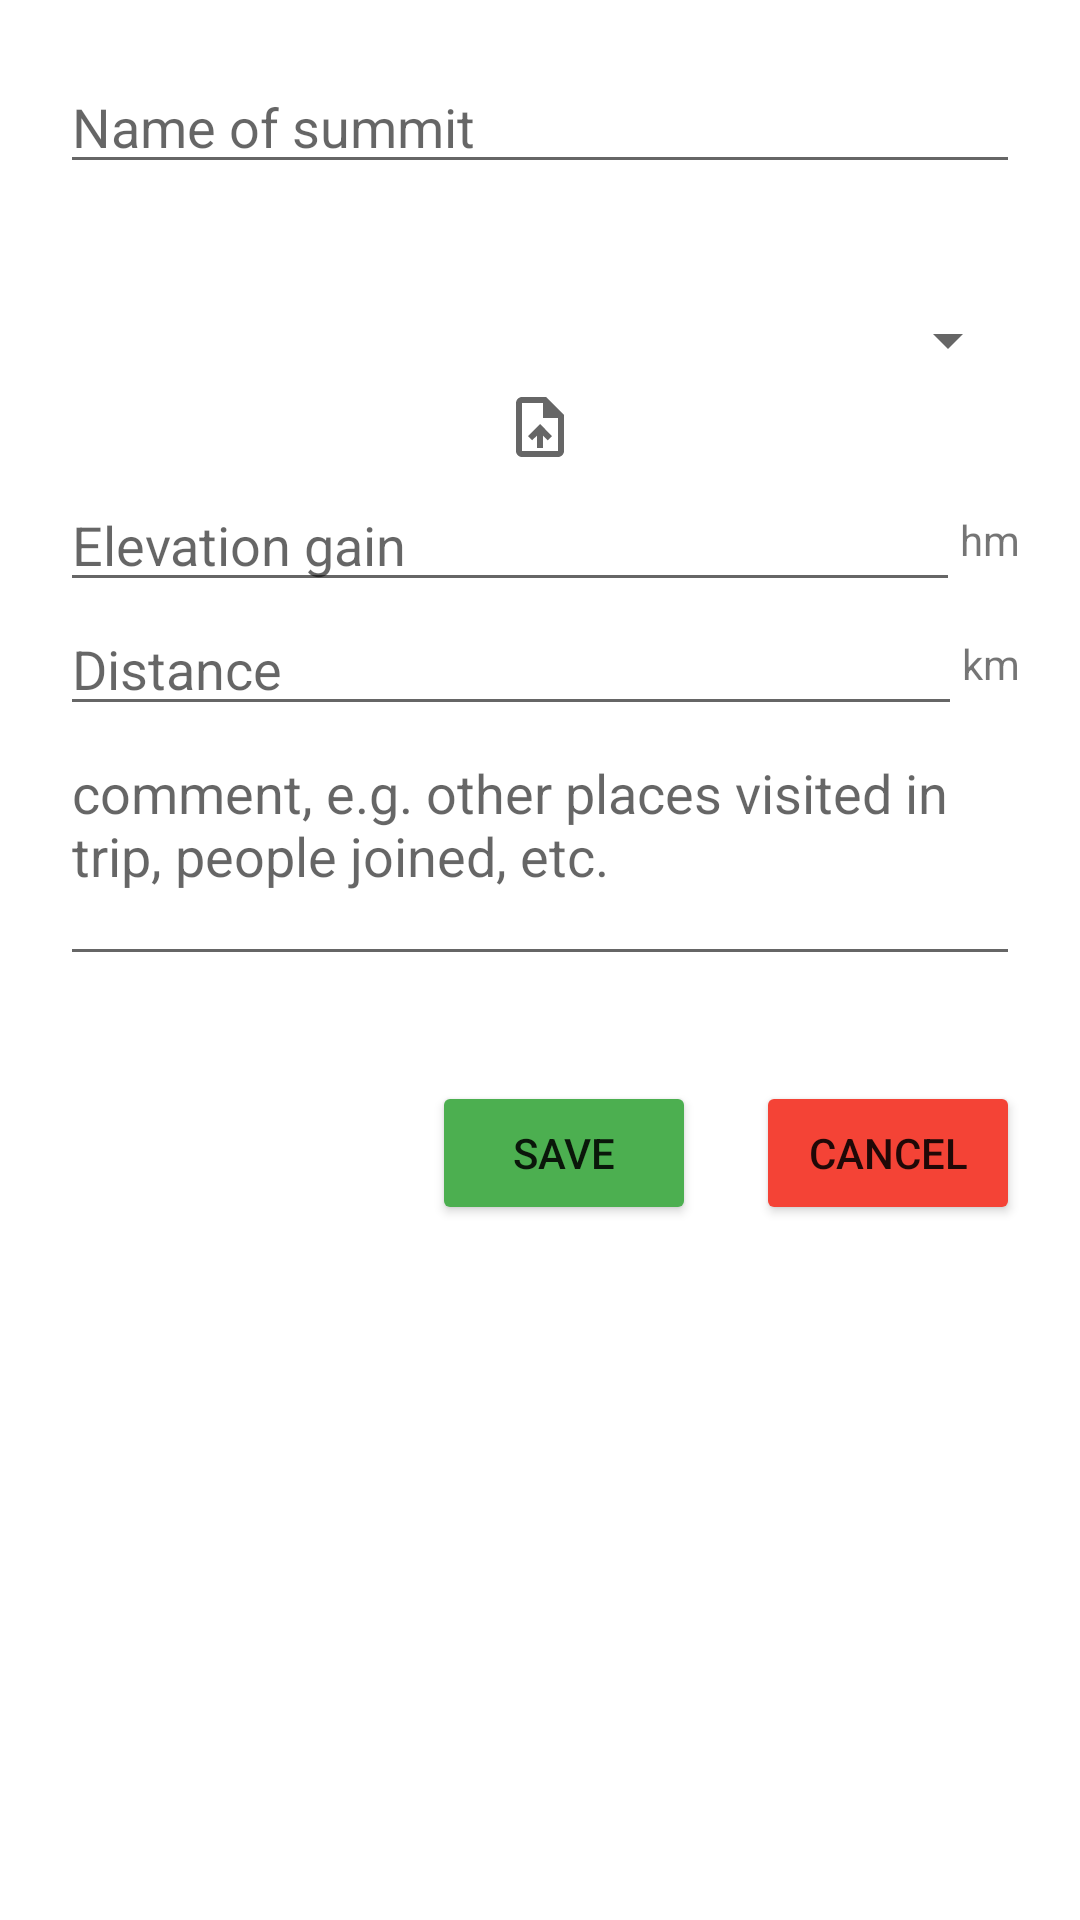

Icons on this 1080px x 1920px Android screen, each with its box as (x1, y1, x2, y2):
add GPS track: (516, 397, 564, 457)
